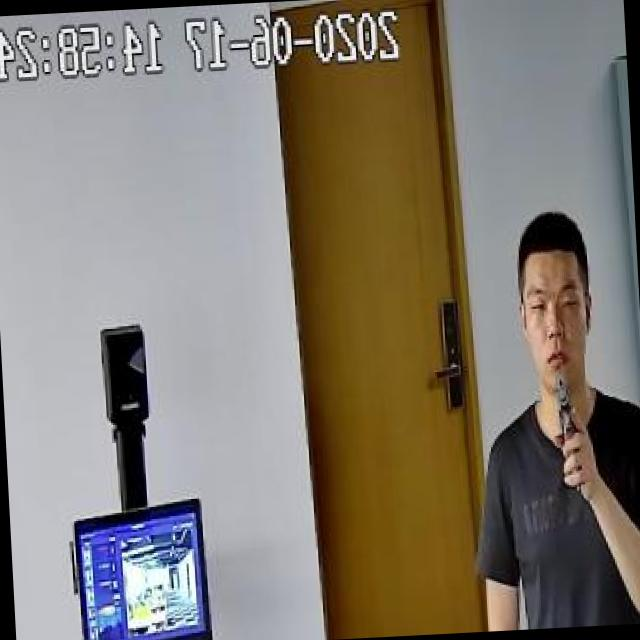Guns: (540, 367, 590, 462)
